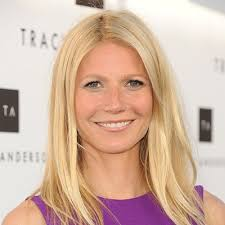white_female: (32, 39, 167, 166)
